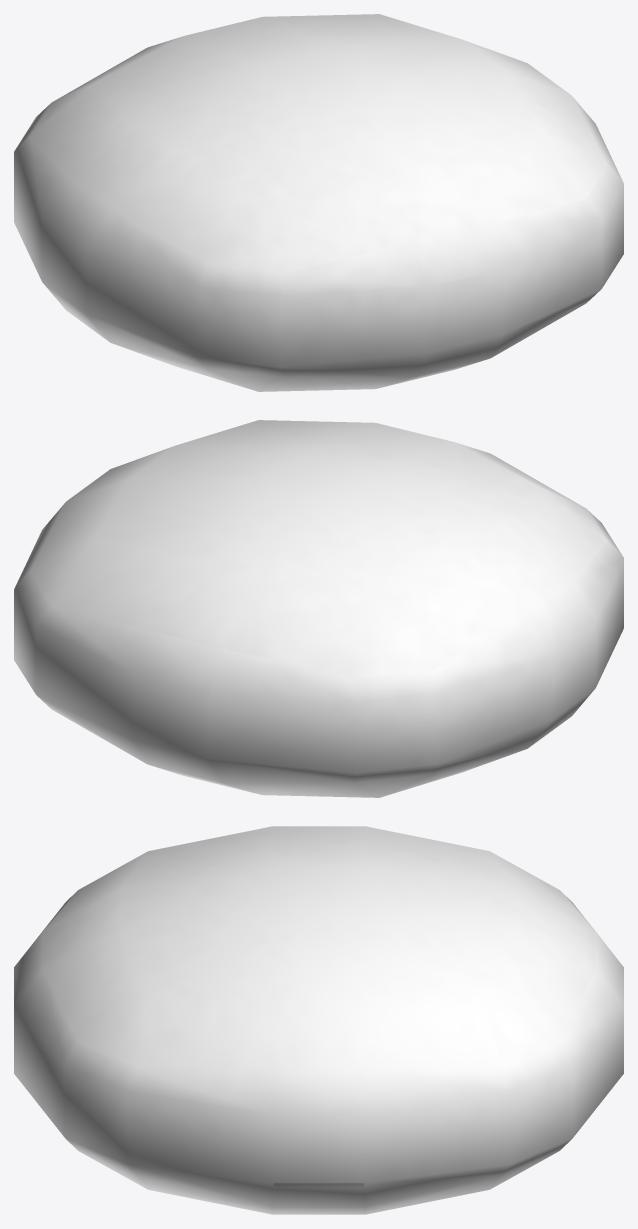
Rendered from rock_small_d_00.obj.
3 renders of one model, top to bottom at view 1: azimuth 30°, elevation 25°; view 2: azimuth 150°, elevation 25°; view 3: azimuth 270°, elevation 25°, orthographic. The views are drawn at different scales.
Bounding box in the file's own units: 0.6461 × 0.3104 × 0.6461.
